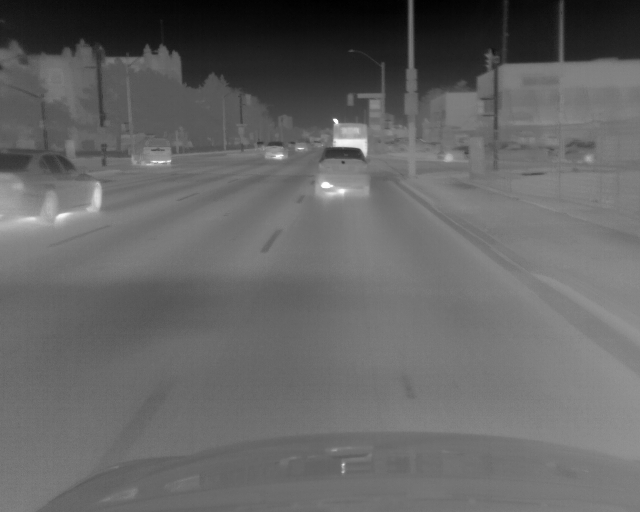car: (1, 147, 103, 227), (315, 149, 369, 195), (329, 121, 368, 154), (129, 137, 171, 167), (486, 140, 540, 163), (549, 141, 595, 164), (263, 141, 289, 162), (437, 145, 467, 163), (293, 138, 308, 152)
